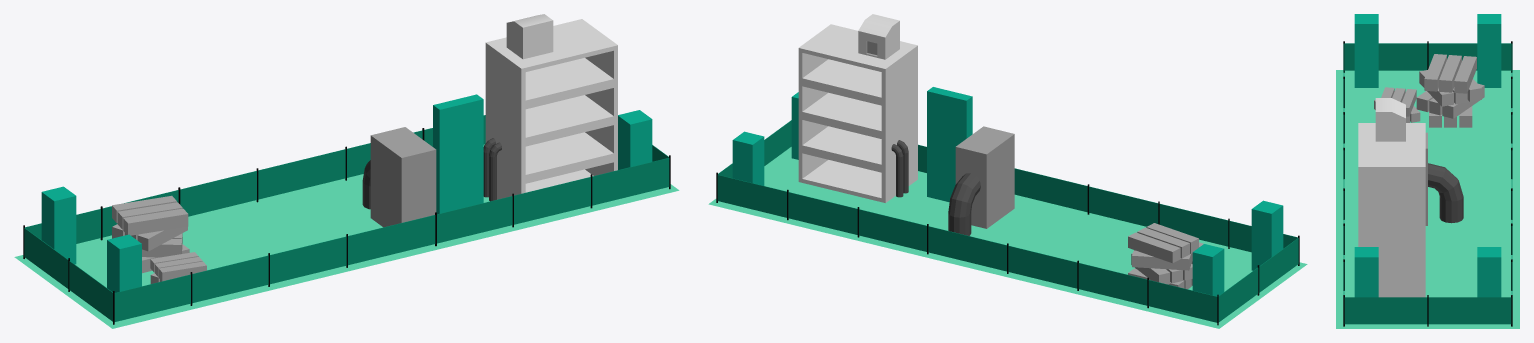
Rendered from 310_green.fbx.
3 views of the same model, side by side, from view 1: azimuth 30°, elevation 25°; view 2: azimuth 150°, elevation 25°; view 3: azimuth 270°, elevation 25° (orthographic). The views are drawn at different scales.
Visible parts, largest first — view 1: pCube229, ree_ree2, pCube228 (×4), pCube227 (×3), pCube233, pCube234, pCube260, pCube265, pCube259, pCube267, pCube264, pCube241 (+12 smaller); view 2: pCube229, ree_ree2, pCube233, pCube234, pCube227 (×2), pCube228 (×2), pCube260, pCube259, pCube262, pCube263, pCube257, pCube258 (+14 smaller); view 3: ree_ree2, pCube229, pCube225, pCube226, pCube264, pCube265, pCube217, pCylinder44, pCube241, pCube266, pCube267, pCube222 (+14 smaller).
Part boxes in pixels (x1,y1,x2,y2): pCube229: (485,19,617,199); ree_ree2: (14,144,679,328); pCube228 (×4): (114,158,669,321); pCube227 (×3): (192,177,590,303); pCube233: (370,127,436,227); pCube234: (433,94,483,214); pCube260: (258,149,345,199); pCube265: (41,186,76,264); pCube259: (180,171,256,216); pCube267: (618,110,652,169); pCube264: (107,234,141,292); pCube241: (506,14,553,59); pCube229: (798,24,917,202); ree_ree2: (708,147,1307,328); pCube233: (955,126,1014,228); pCube234: (927,87,972,202); pCube227 (×2): (1014,168,1228,246); pCube228 (×2): (1089,186,1297,252); pCube260: (928,226,1006,271); pCube259: (1008,245,1077,288); pCube262: (788,192,857,234); pCube263: (717,175,786,217); pCube257: (1148,280,1217,322); pCube258: (1078,263,1147,305); ree_ree2: (1336,70,1519,328); pCube229: (1358,123,1425,297); pCube225: (1428,297,1511,324); pCube226: (1344,297,1427,324); pCube264: (1354,14,1378,87); pCube265: (1477,14,1501,87); pCube217: (1344,43,1427,70); pCylinder44: (1428,163,1463,223); pCube241: (1375,98,1405,141); pCube266: (1477,247,1501,297); pCube267: (1354,247,1378,297); pCube222: (1428,43,1511,70).
Size of the model in its own units: 10 by 3.04 by 3.
